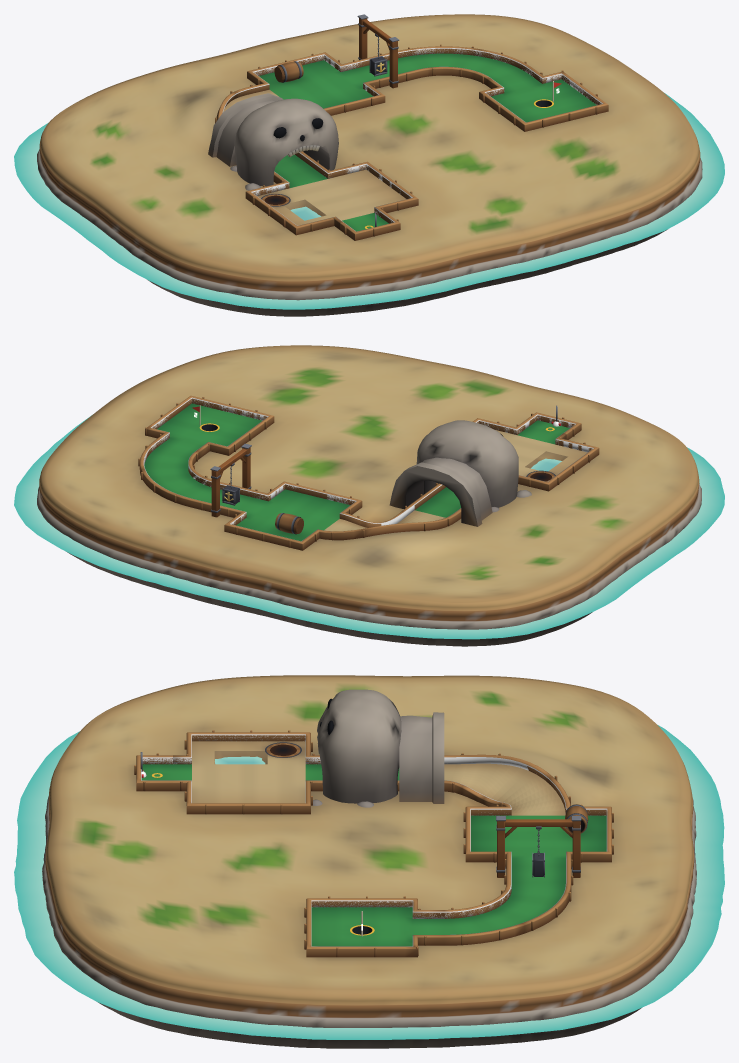
File: course-05.glb
3 views of the same model, one above another, from view 1: azimuth 30°, elevation 25°; view 2: azimuth 150°, elevation 25°; view 3: azimuth 270°, elevation 25° (orthographic). The views are drawn at different scales.
Visible parts, largest first — view 1: scenery-matte, water-shore, rail-trim, floor-felt, floor-sand, rail-wood; view 2: scenery-matte, water-shore, floor-felt, rail-trim, rail-wood, floor-sand; view 3: scenery-matte, water-shore, rail-trim, floor-felt, floor-sand, rail-wood.
Boxes of the visible parts, box(x1,y1,x2,y2) form: scenery-matte: box(37, 14, 702, 316); water-shore: box(14, 93, 724, 309); rail-trim: box(215, 44, 608, 240); floor-felt: box(259, 53, 596, 231); floor-sand: box(223, 89, 406, 225); rail-wood: box(222, 48, 602, 231); scenery-matte: box(37, 345, 701, 646); water-shore: box(14, 415, 724, 639); floor-felt: box(144, 403, 569, 541); rail-trim: box(138, 395, 599, 550); rail-wood: box(143, 397, 593, 541); floor-sand: box(324, 430, 587, 531); scenery-matte: box(42, 675, 696, 1048); water-shore: box(14, 725, 724, 1039); rail-trim: box(134, 730, 613, 957); floor-felt: box(141, 764, 606, 946); floor-sand: box(192, 741, 565, 815); rail-wood: box(141, 734, 607, 946).
Size of the model in its own units: 26.27 by 5.15 by 22.55.
